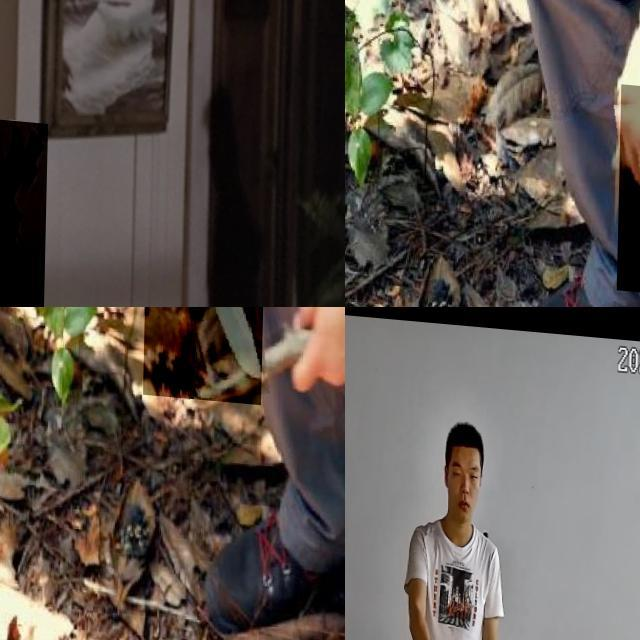-: (144, 307, 266, 433)
gun-knife-thesis - v11 Yolov5 augmented: (0, 112, 49, 307)
